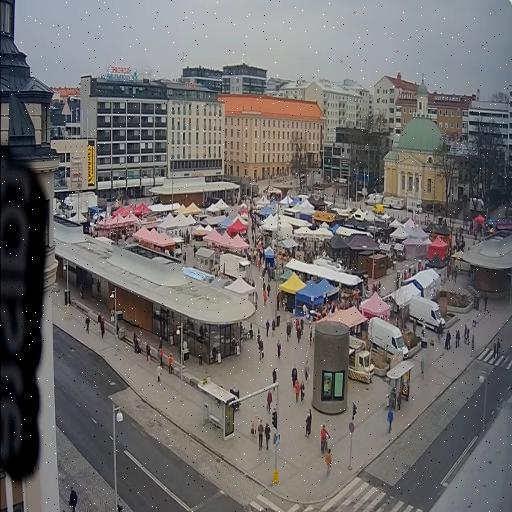Delivery: (367, 318, 408, 364), (408, 296, 444, 333), (347, 335, 368, 377)
